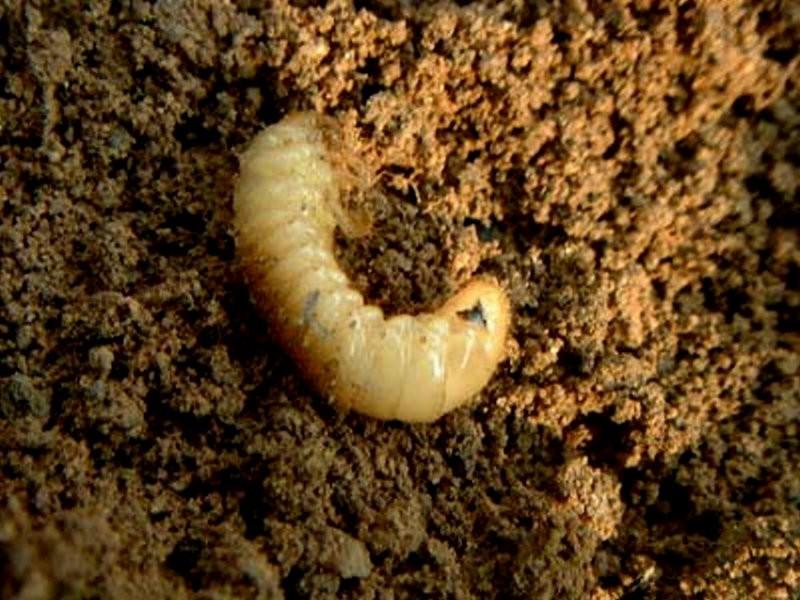grub: (230, 107, 512, 428)
